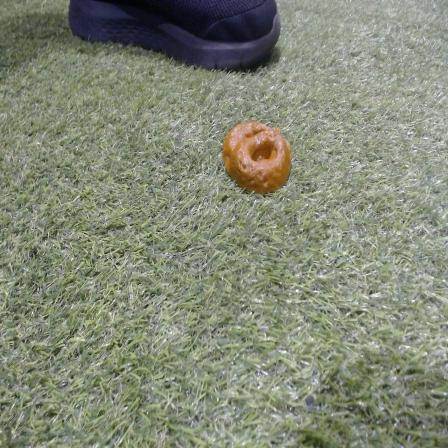dog-poop: (226, 121, 286, 191)
